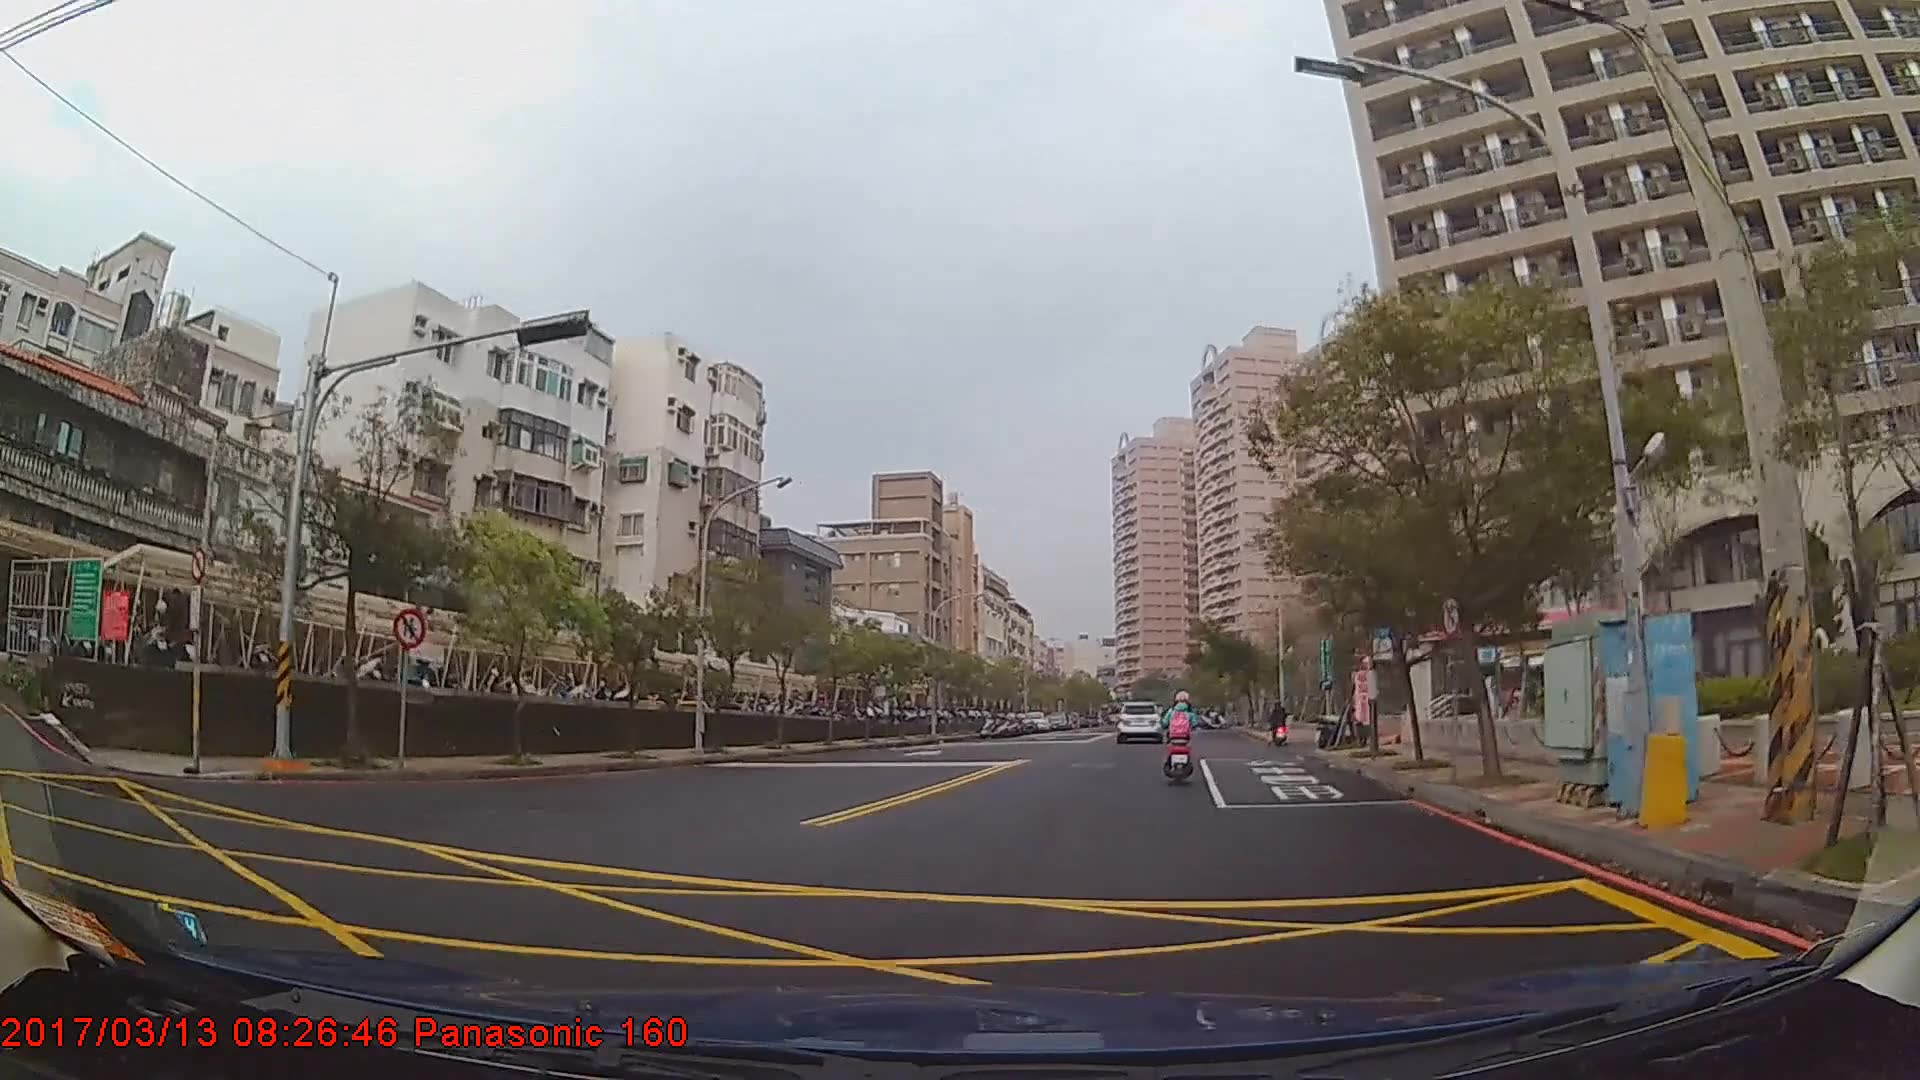rider: (1159, 691, 1204, 781), (1269, 702, 1289, 741)
vehicle: (1114, 696, 1162, 739)
